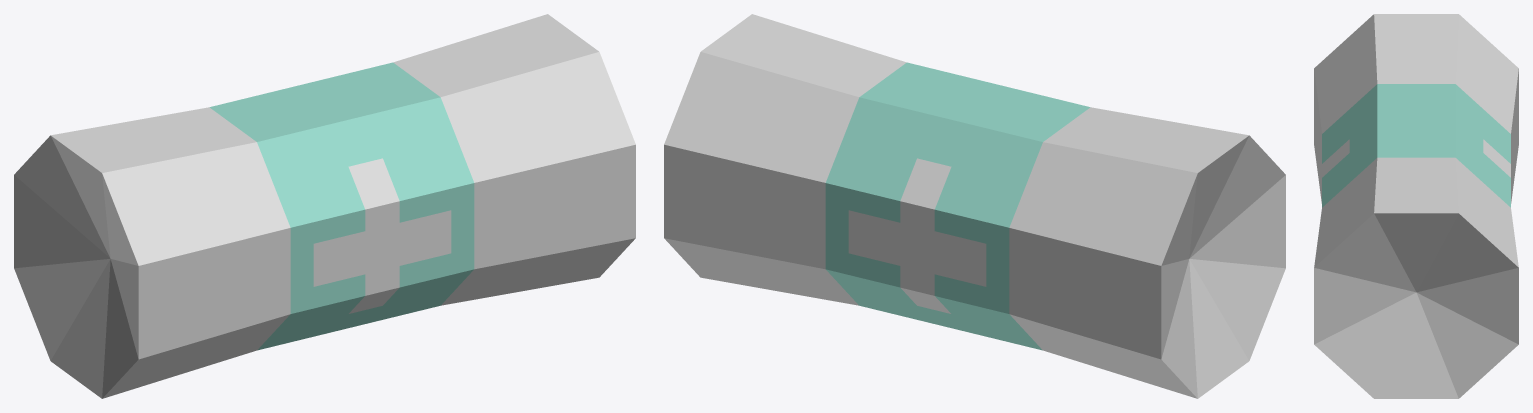
Rendered from Bandage.fbx.
3 renders of one model, left to right at view 1: azimuth 30°, elevation 25°; view 2: azimuth 150°, elevation 25°; view 3: azimuth 270°, elevation 25°, orthographic. The views are drawn at different scales.
Visible parts, largest first — view 1: Bandage; view 2: Bandage; view 3: Bandage.
Part boxes in pixels (box(x1,y1,x2,y2)): Bandage: box(14, 14, 635, 398); Bandage: box(664, 14, 1285, 398); Bandage: box(1314, 14, 1518, 398).
Size of the model in its own units: 0.0784 by 0.034 by 0.034.
